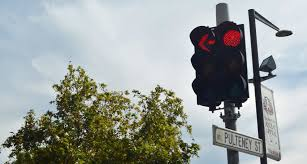red: (215, 22, 251, 106), (217, 24, 247, 99)
